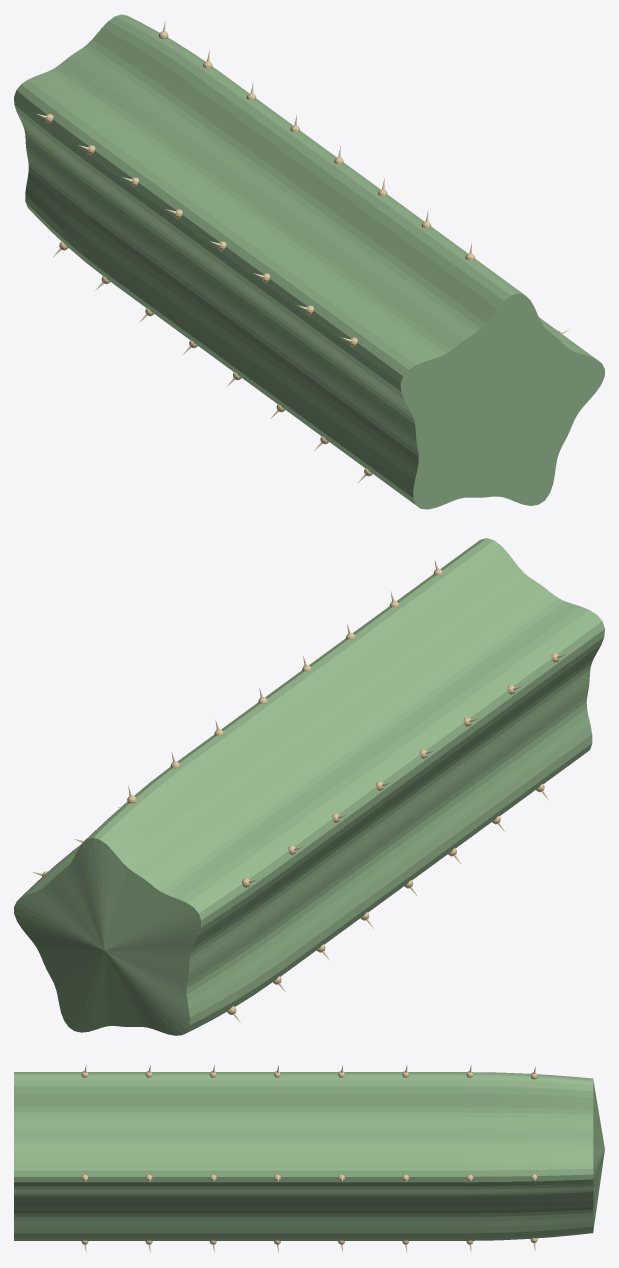
File: pachanoi-geometry-nodes-frame7.glb
3 views of the same model, one above another, from view 1: azimuth 30°, elevation 25°; view 2: azimuth 150°, elevation 25°; view 3: azimuth 270°, elevation 25° (orthographic). The views are drawn at different scales.
Parts seen in each view (by area): view 1: WACHUMA_Pachanoi_GN_Baked; view 2: WACHUMA_Pachanoi_GN_Baked; view 3: WACHUMA_Pachanoi_GN_Baked.
Part boxes in pixels (x1,y1,x2,y2): WACHUMA_Pachanoi_GN_Baked: (14, 14, 604, 509); WACHUMA_Pachanoi_GN_Baked: (14, 538, 604, 1035); WACHUMA_Pachanoi_GN_Baked: (14, 1065, 604, 1252).
Bounding box in the file's own units: 0.8576 × 0.8686 × 2.6.
